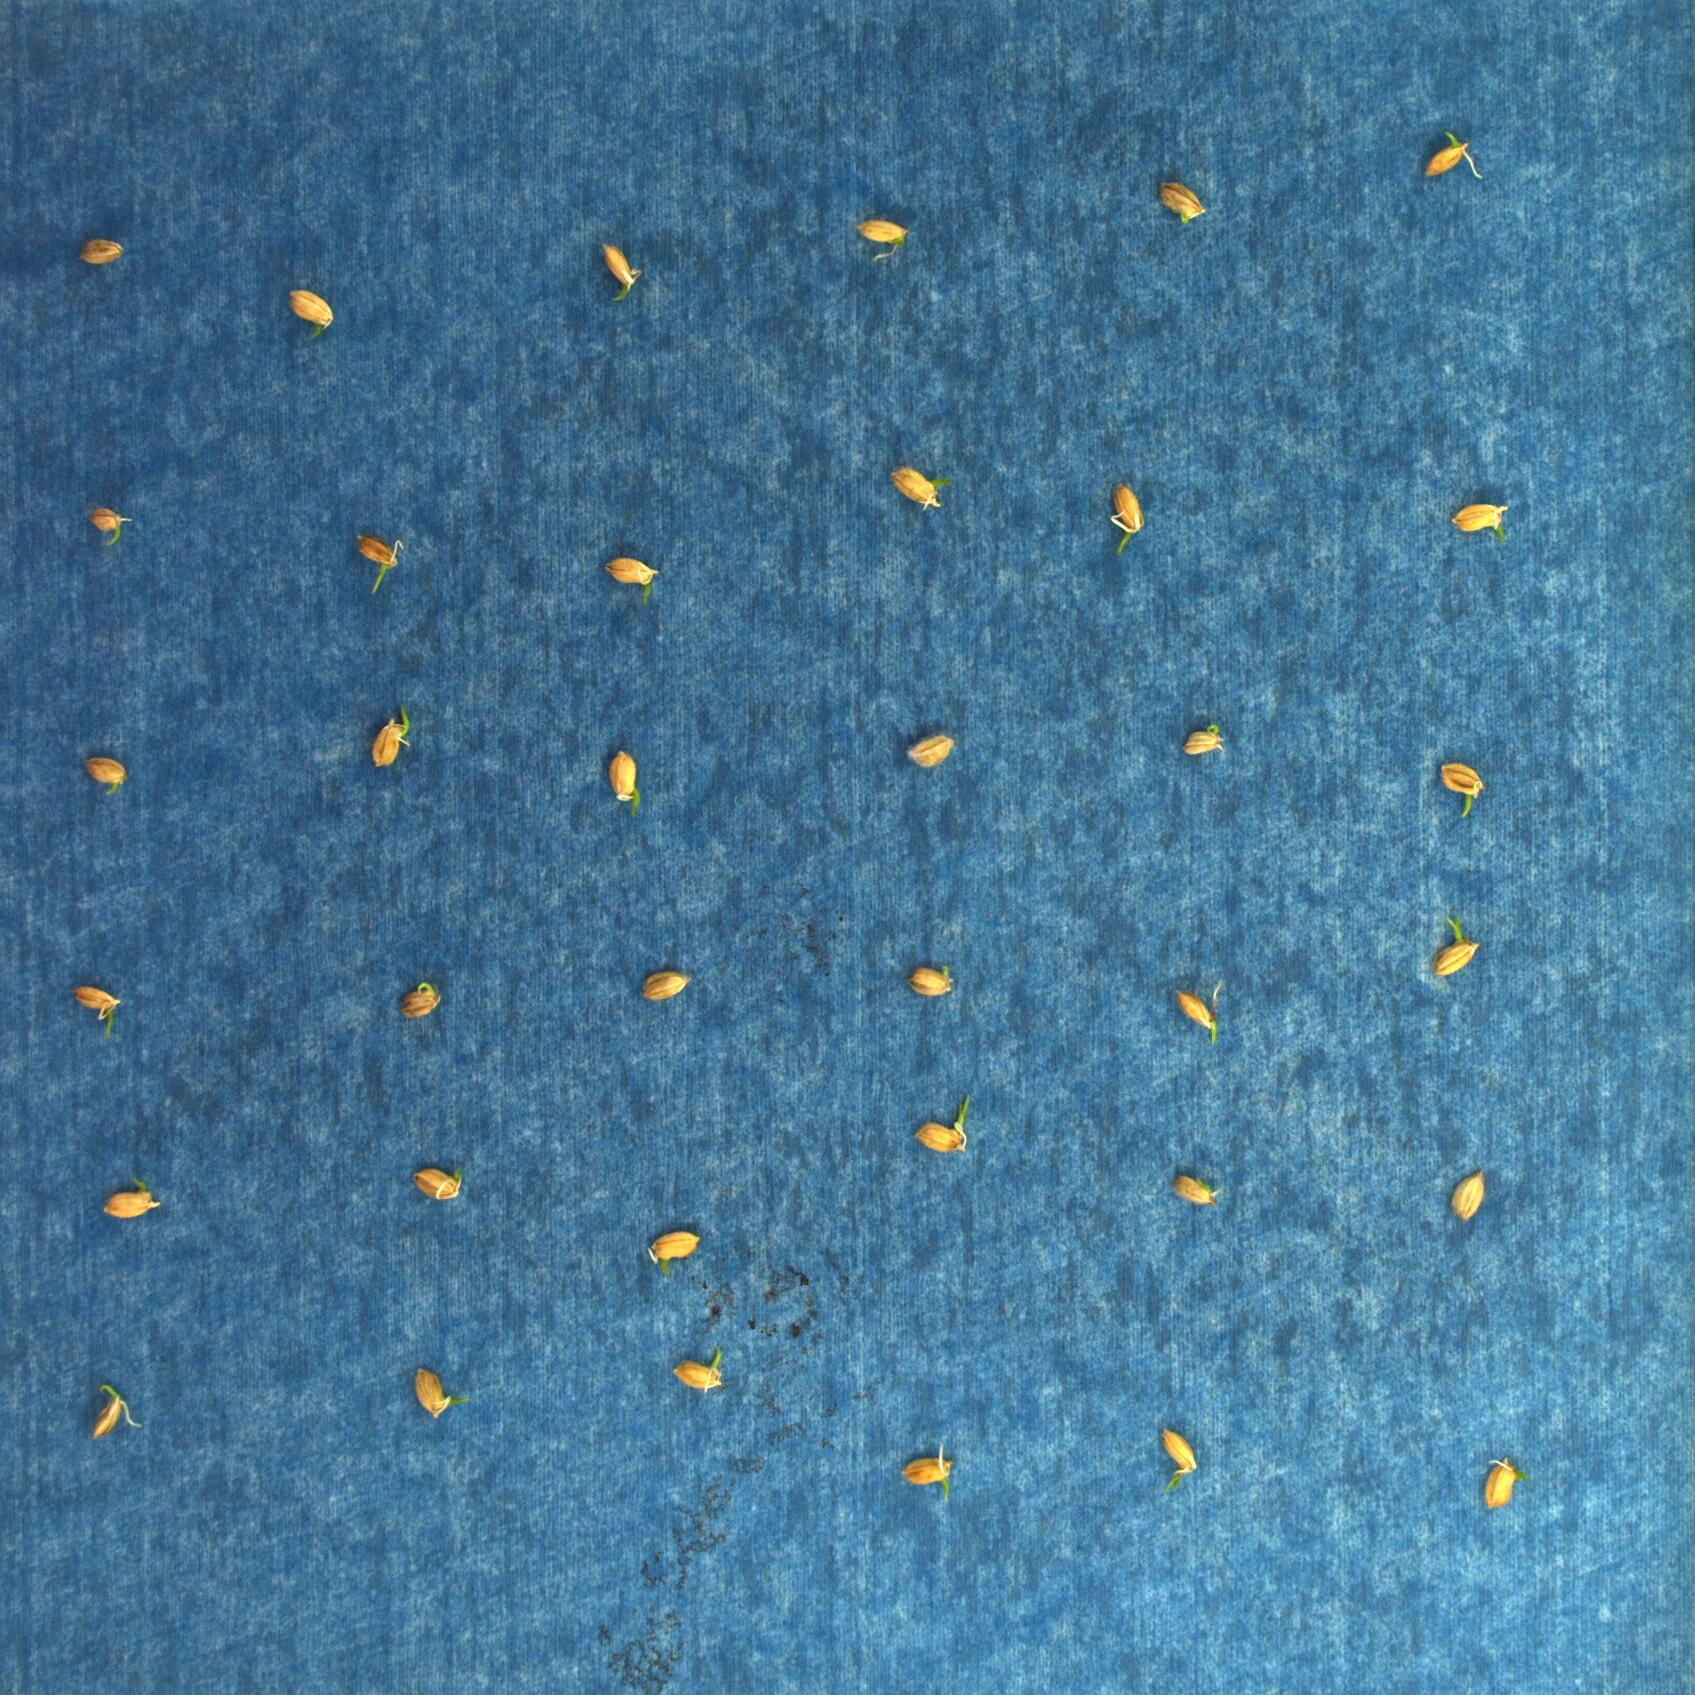not sprout: (885, 453, 948, 508), (410, 1363, 469, 1420), (93, 1173, 163, 1218), (81, 1385, 140, 1437), (638, 1232, 705, 1279), (1423, 132, 1485, 182), (1167, 989, 1218, 1048), (1444, 501, 1510, 546), (287, 287, 334, 345), (855, 213, 913, 259), (601, 237, 640, 304), (674, 1350, 726, 1391), (1485, 1459, 1524, 1513), (1158, 180, 1203, 227), (410, 1166, 464, 1201), (1450, 1170, 1489, 1220), (641, 965, 697, 1000), (1166, 1173, 1222, 1208), (906, 731, 955, 770), (913, 962, 959, 998), (1181, 723, 1229, 757), (400, 981, 441, 1018), (85, 759, 127, 793), (75, 237, 123, 267)
sprout: (893, 1434, 958, 1506), (908, 1093, 973, 1153), (1150, 1426, 1195, 1499), (1434, 754, 1485, 818), (352, 540, 407, 594), (602, 554, 657, 607), (1107, 483, 1147, 553), (78, 986, 121, 1043), (369, 708, 411, 767), (605, 754, 641, 823), (1433, 917, 1475, 973), (88, 511, 130, 546)
